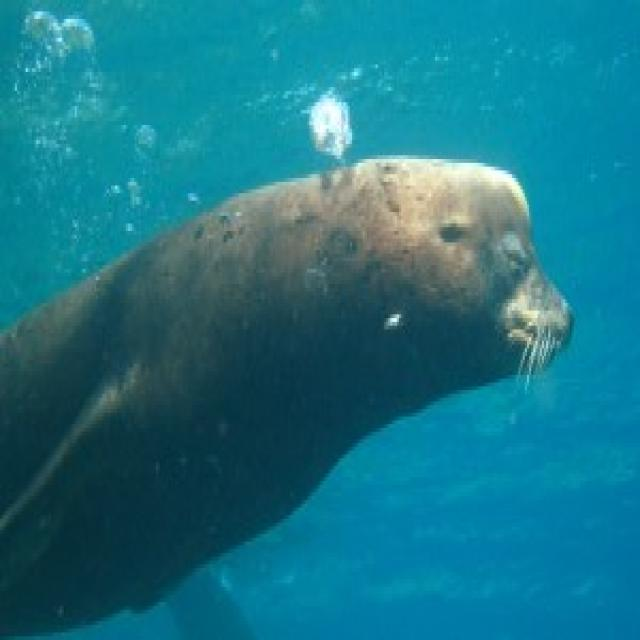Seal: (0, 99, 576, 636)
